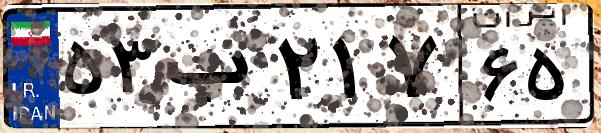1: (330, 28, 385, 110)
2: (270, 28, 330, 110)
3: (110, 28, 158, 98)
5: (57, 26, 110, 100), (525, 38, 570, 115)
6: (475, 38, 525, 113)
7: (385, 28, 445, 110)
ب: (158, 20, 270, 120)
